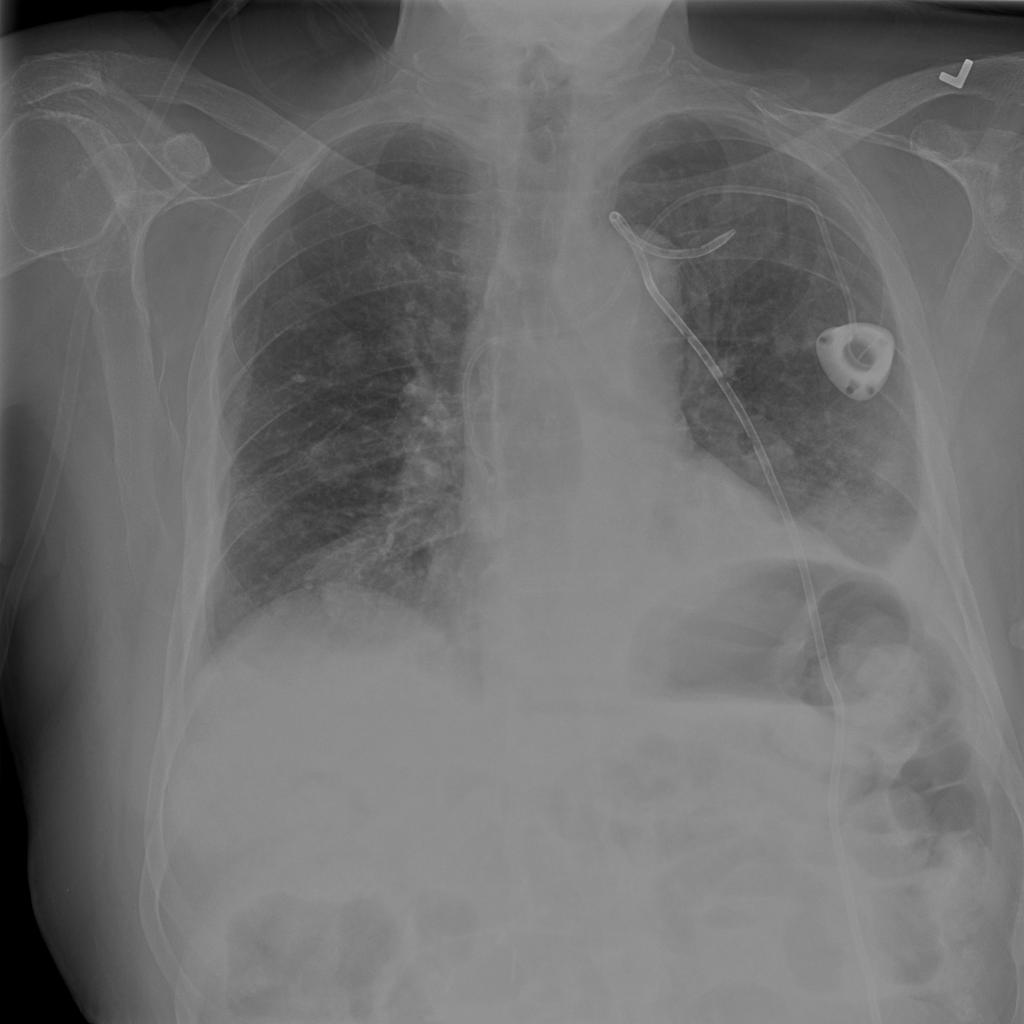nodule: (311, 566, 388, 635), (853, 437, 924, 507), (319, 324, 375, 376), (762, 313, 808, 366), (255, 579, 308, 624)
